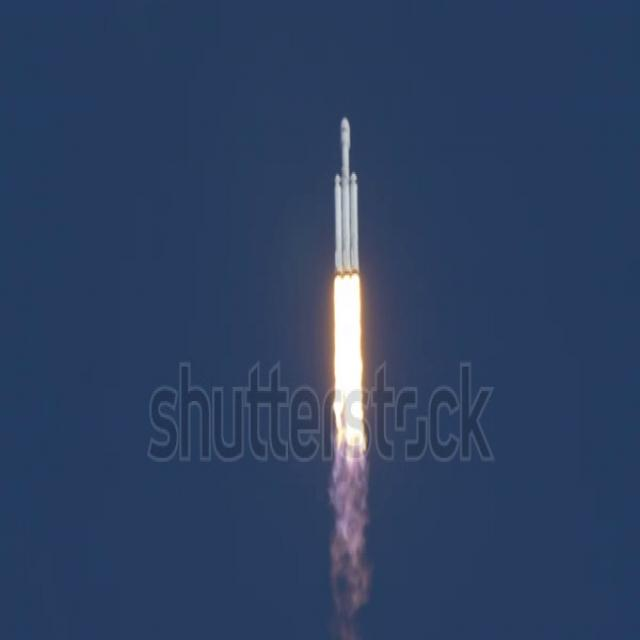rocket: (329, 113, 362, 516)
